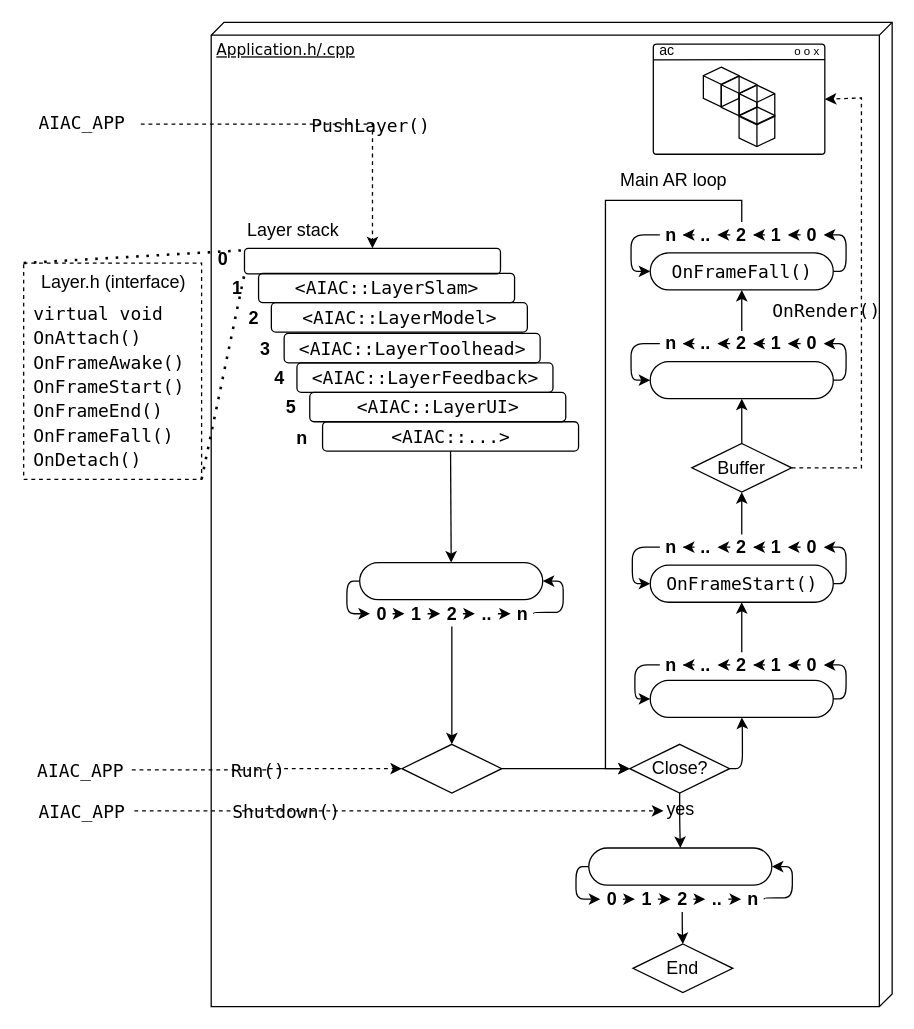
The diagram is 914 pixels wide and 1029 high, and some of its shapes have lost their labels. The shapes that lost their labels are listed below. From the top down, each one's centre as x and y in pixels, then its label:
At point 371,260: "< AIAC ::LayerCamera >".
At point 741,379: "OnFrameEnd ()".
At point 450,580: "OnAttach ()".
At point 741,698: "OnFrameAwake ()".
At point 451,768: "Start".
At point 680,866: "OnDetach ()".
